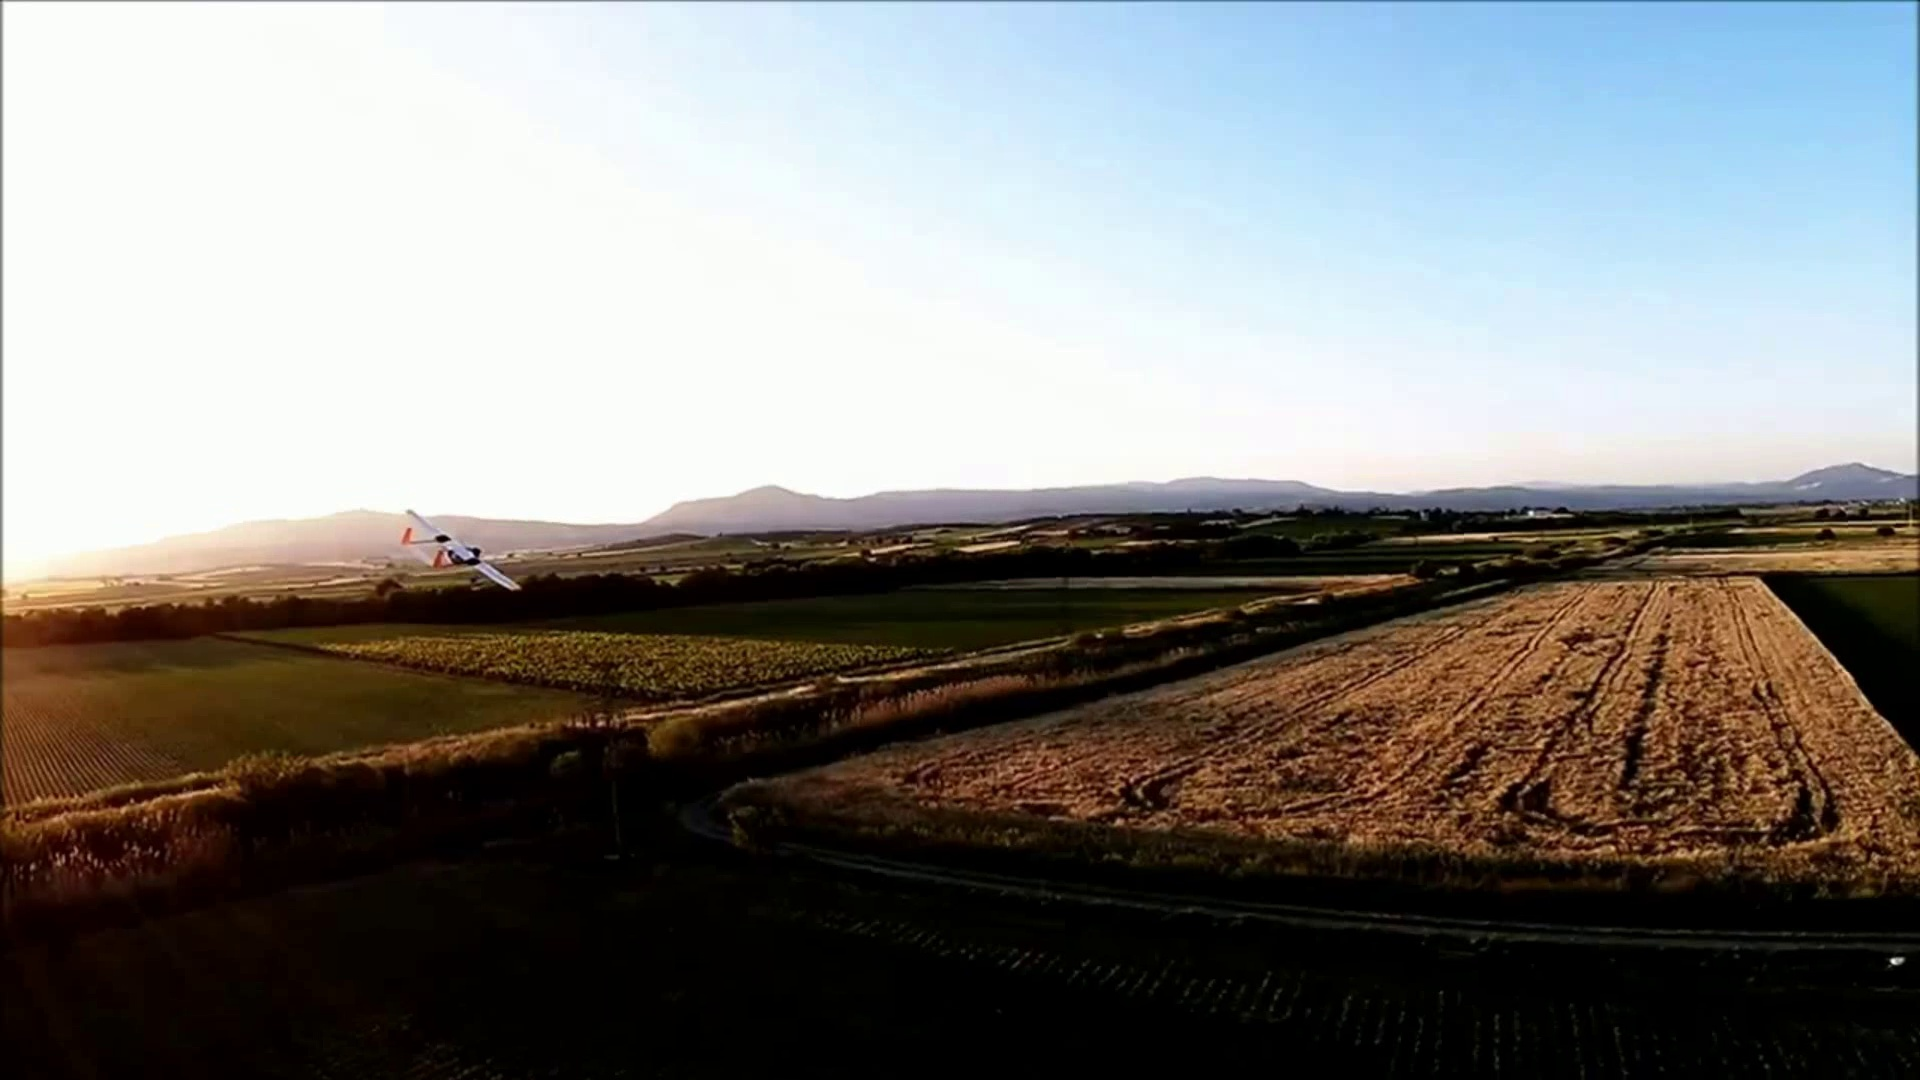airplane: (5, 508, 514, 628)
